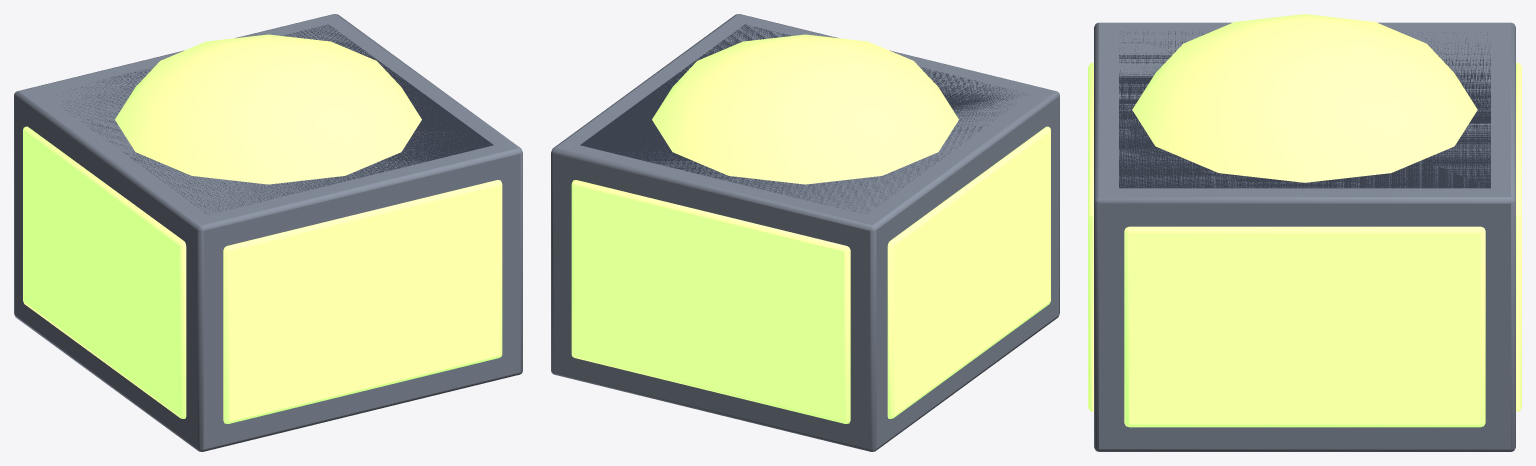
The model's file is ware_isotop.fbx.
3 renders of one model, left to right at view 1: azimuth 30°, elevation 25°; view 2: azimuth 150°, elevation 25°; view 3: azimuth 270°, elevation 25°, orthographic. The views are drawn at different scales.
Visible parts, largest first — view 1: ware_isotop_Koerper; view 2: ware_isotop_Koerper; view 3: ware_isotop_Koerper.
Part boxes in pixels (x1,y1,x2,y2): ware_isotop_Koerper: [14, 14, 522, 451]; ware_isotop_Koerper: [551, 14, 1059, 451]; ware_isotop_Koerper: [1088, 14, 1521, 451].
Bounding box in the file's own units: 0.432 × 0.355 × 0.432.
